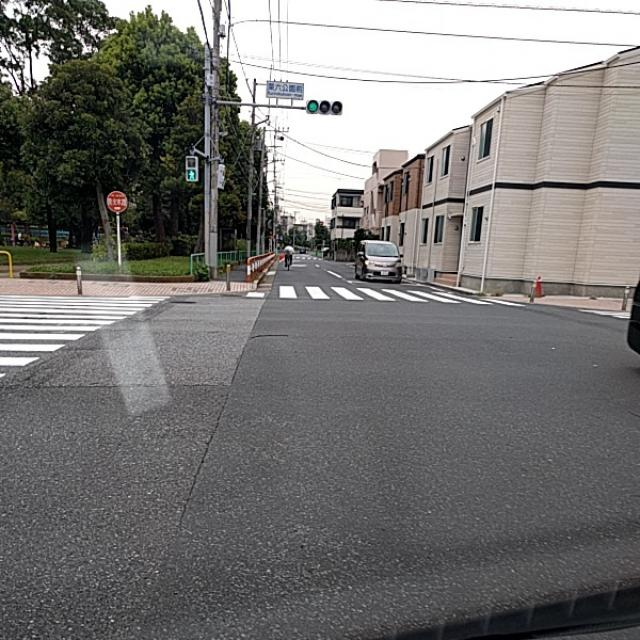pothole: (148, 374, 205, 501)
